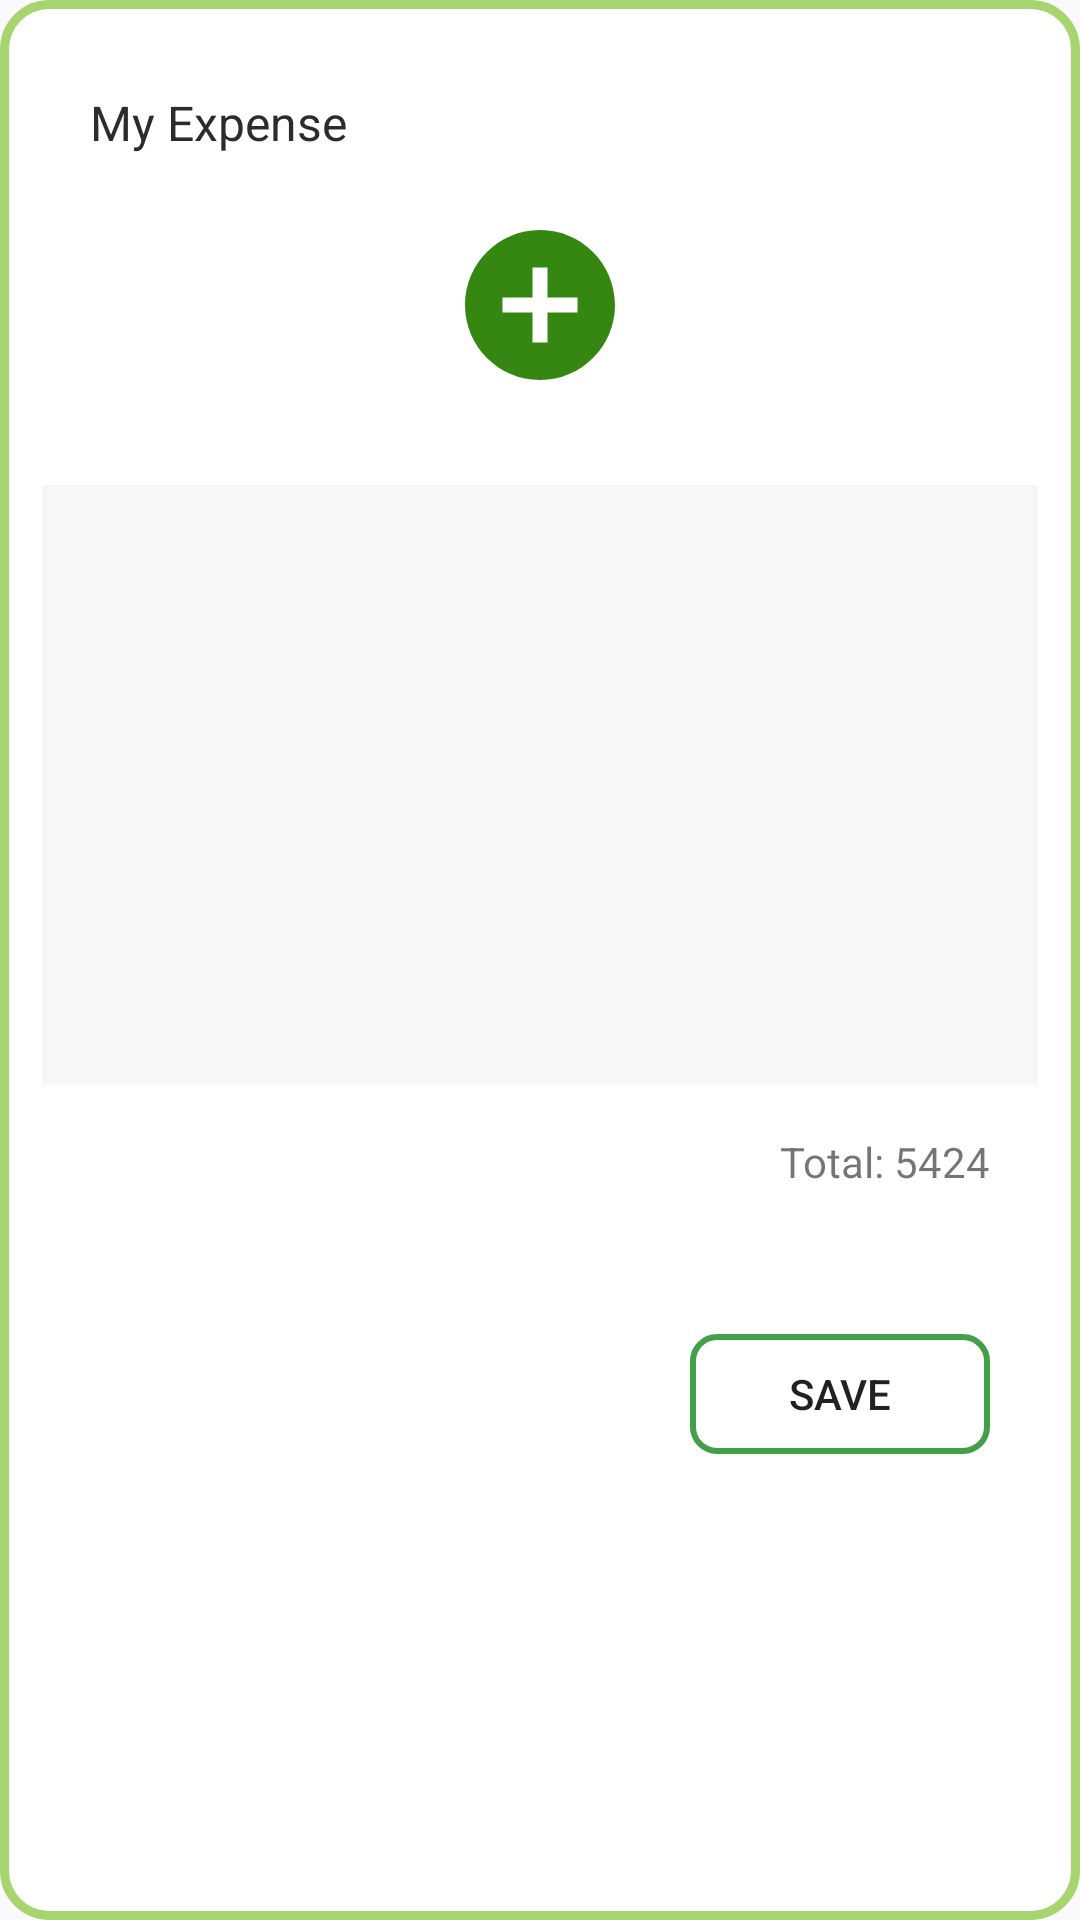

Icons on this 1080w x 1920h Android screen, each with the point to tap as (x=x, y=y):
add: (x=540, y=305)
